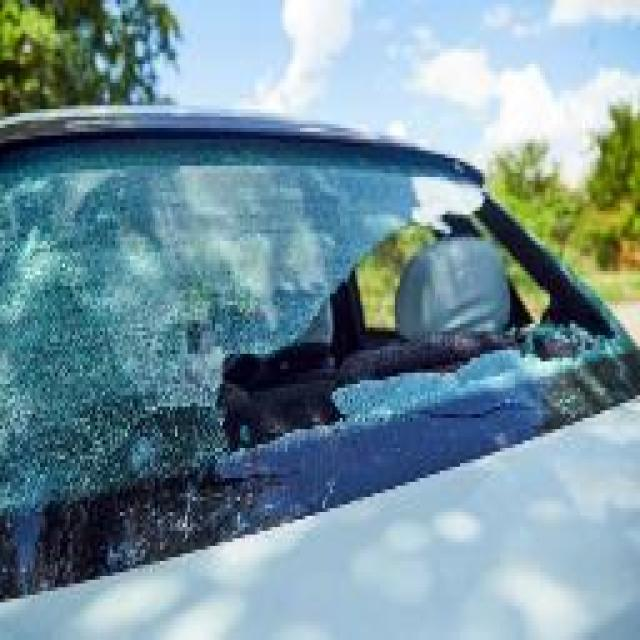Windshield: (2, 147, 608, 463)
